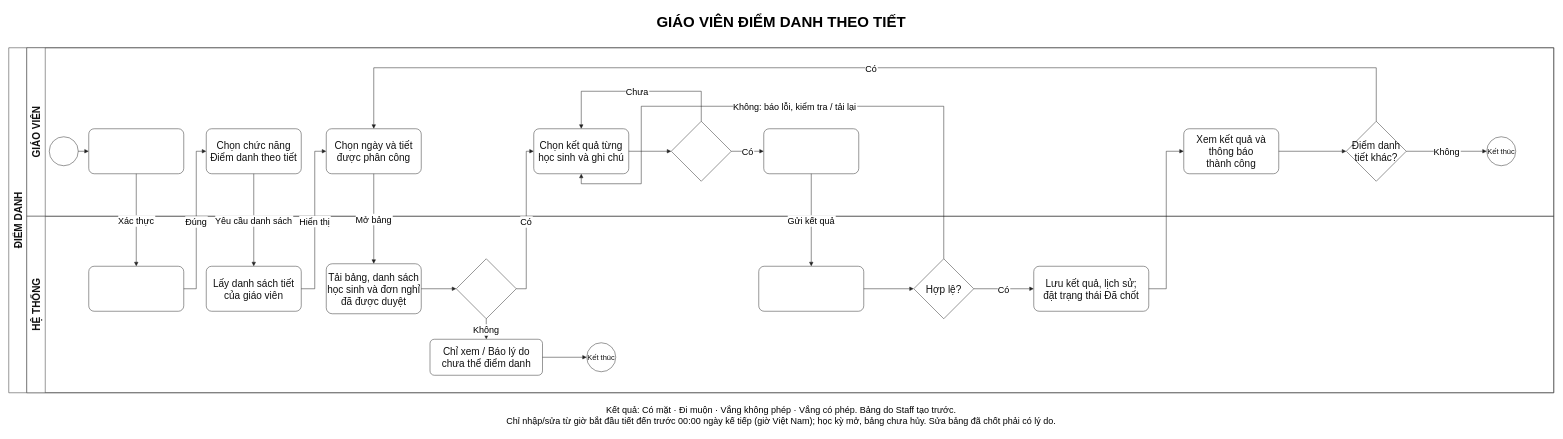
Some shapes in this 1563 by 439 pixel diagram are drawn without their labels. Each missing label, with the centre of its shape:
Bắt đầu: (63,151)
Hoàn tất điểm danh?: (701,151)
Kiểm tra điều kiện và dữ liệu điểm danh: (811,288)
Nhấn xác nhận / Lưu chỉnh sửa: (811,151)
Xác thực tài khoản và vai trò giáo viên: (136,288)
Đăng nhập: (136,151)
Được phép nhập / sửa?: (486,288)
